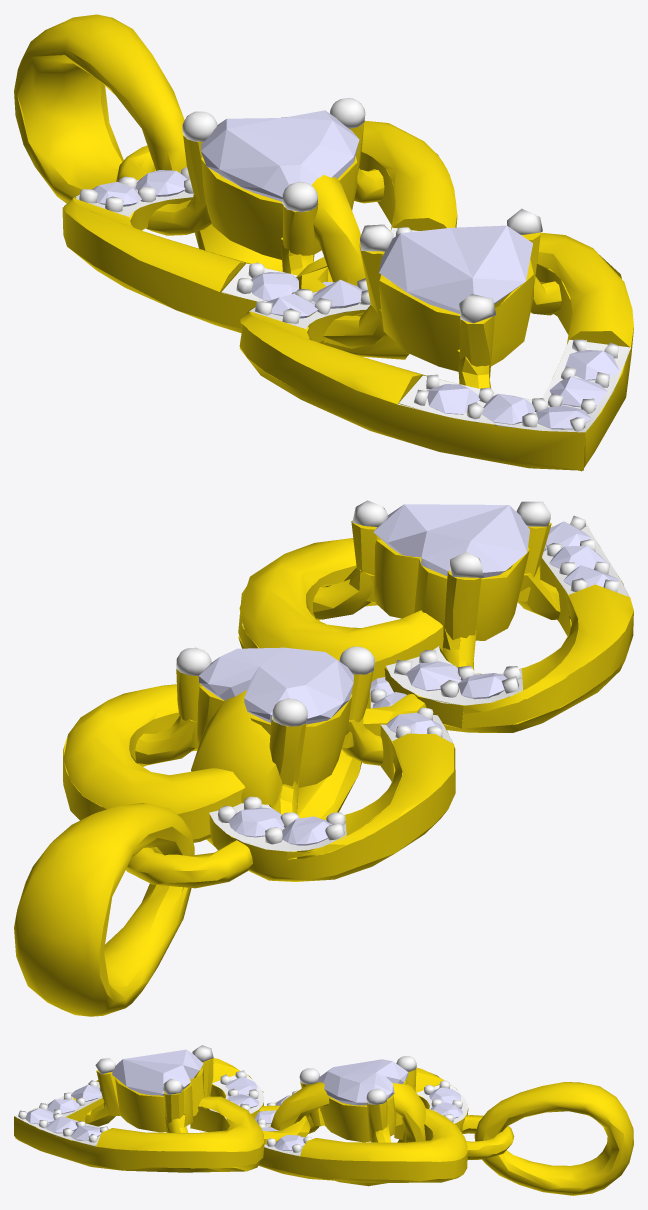
Rendered from DPN-D000675684.glb.
The picture shows the model from 3 angles, top to bottom: view 1: azimuth 30°, elevation 25°; view 2: azimuth 150°, elevation 25°; view 3: azimuth 270°, elevation 25°; orthographic projection. The views are drawn at different scales.
Visible parts, largest first — view 1: lowPolyMesh, highPolyMesh; view 2: highPolyMesh, lowPolyMesh; view 3: highPolyMesh, lowPolyMesh.
Part boxes in pixels (x1,y1,x2,y2): lowPolyMesh: (193,175,633,471); highPolyMesh: (14,14,457,359); highPolyMesh: (14,646,455,1016); lowPolyMesh: (191,500,633,846); highPolyMesh: (255,1056,633,1195); lowPolyMesh: (14,1045,427,1186).
Size of the model in its own units: 0.00865 by 0.00558 by 0.0235.
